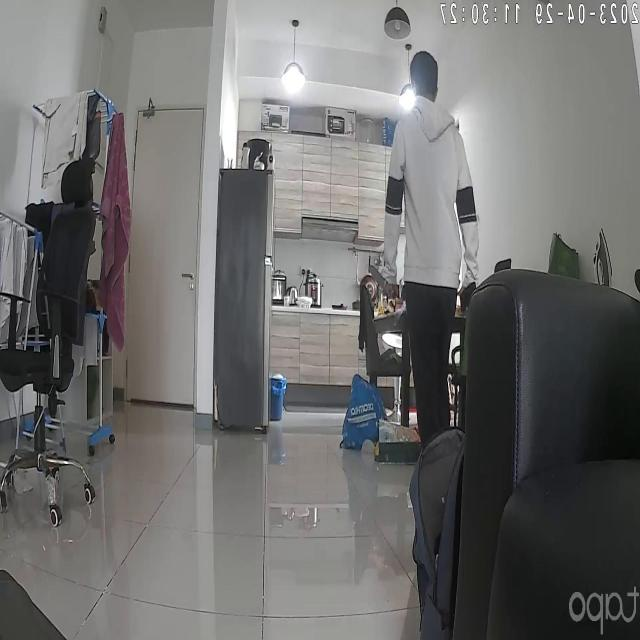Knife: (360, 258, 402, 310)
